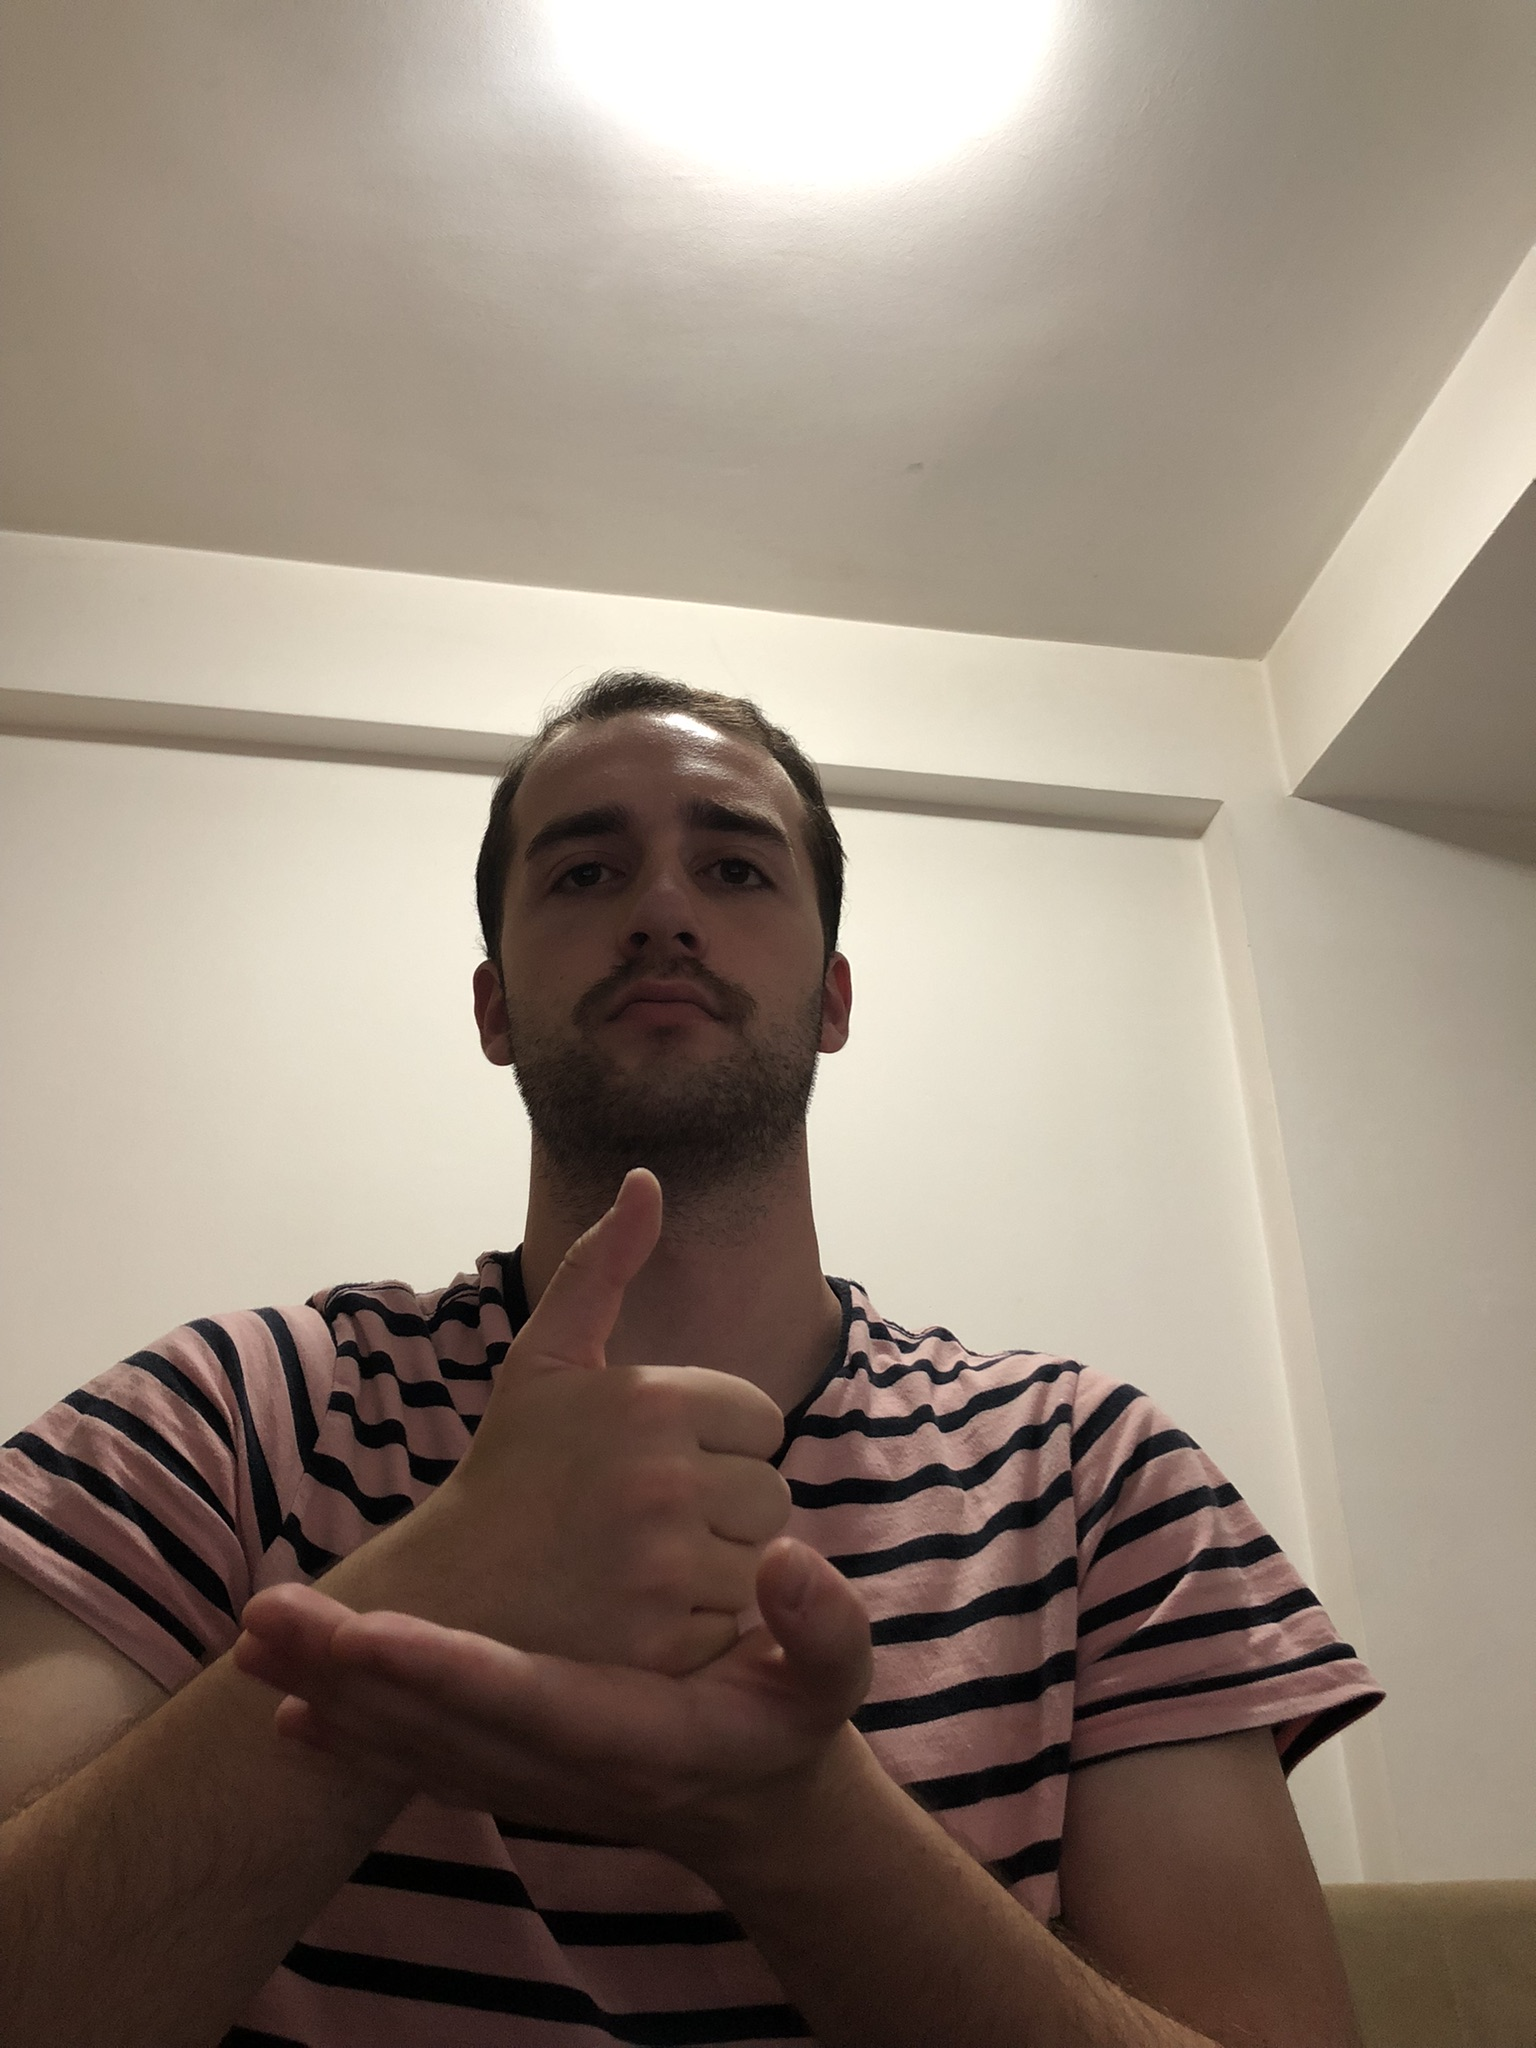Help: (226, 1155, 886, 1846)
